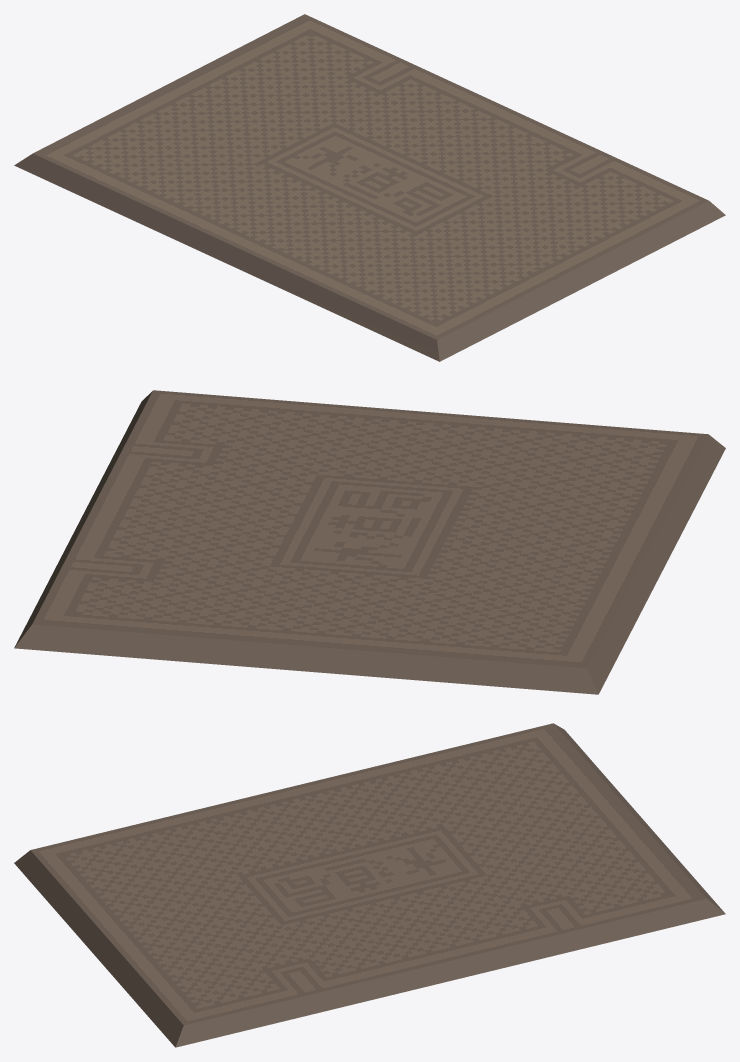
Rendered from kd_stage_135ebf_0_62_bounded.glb.
3 views of the same model, one above another, from view 1: azimuth 30°, elevation 25°; view 2: azimuth 150°, elevation 25°; view 3: azimuth 270°, elevation 25° (orthographic). The views are drawn at different scales.
Visible parts, largest first — view 1: kd_stage_135ebf_0_62_bounded; view 2: kd_stage_135ebf_0_62_bounded; view 3: kd_stage_135ebf_0_62_bounded.
Part boxes in pixels (left/top/right/bottom): kd_stage_135ebf_0_62_bounded: left=14, top=14, right=725, bottom=361; kd_stage_135ebf_0_62_bounded: left=14, top=390, right=725, bottom=694; kd_stage_135ebf_0_62_bounded: left=14, top=723, right=725, bottom=1047.
Bounding box in the file's own units: 0.4009 × 0.044 × 0.4436.
Materials: 1 (1 with a texture image).
